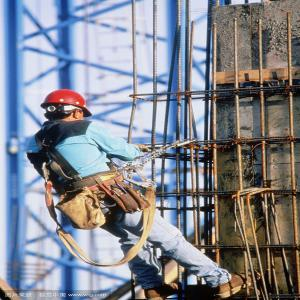red: (41, 92, 89, 125)
